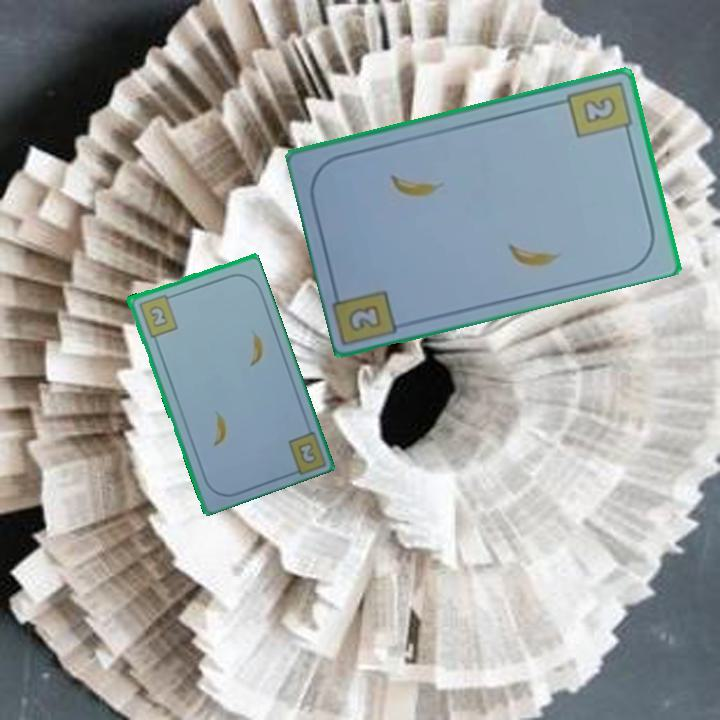2b: (563, 78, 635, 142), (135, 290, 180, 340), (344, 301, 385, 335), (294, 438, 319, 467)
